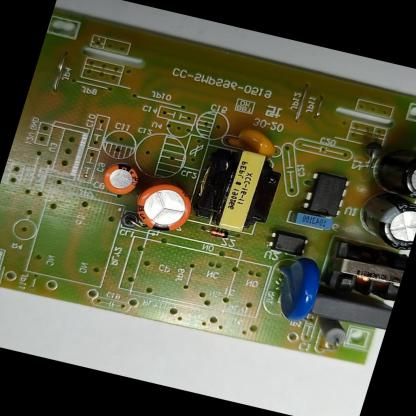Cap1: (128, 177, 199, 237)
Cap2: (97, 159, 143, 199)
Cap3: (349, 192, 416, 253)
Cap4: (366, 140, 416, 205)
MOSFET: (299, 171, 350, 219)
Mov: (264, 252, 326, 328)
Resistor: (311, 316, 353, 351)
Transformer: (188, 143, 288, 240), (326, 240, 408, 304)
